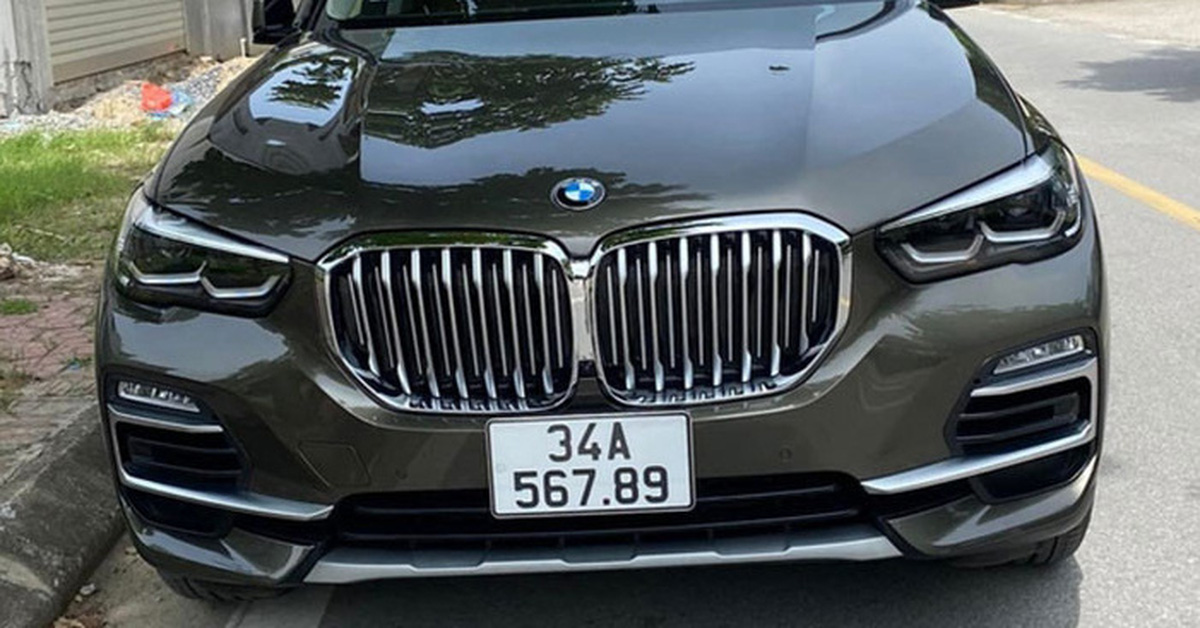bien_so: (486, 412, 695, 518)
